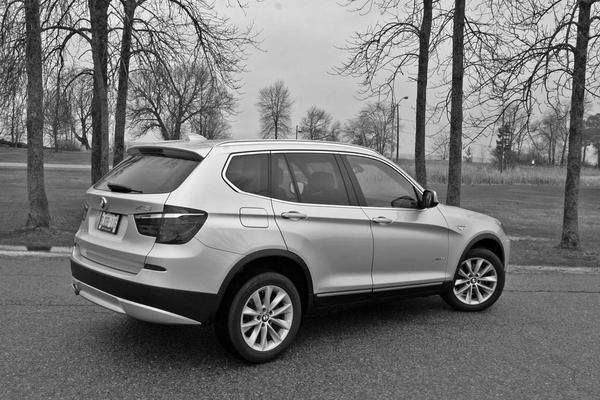car: (70, 134, 512, 366)
